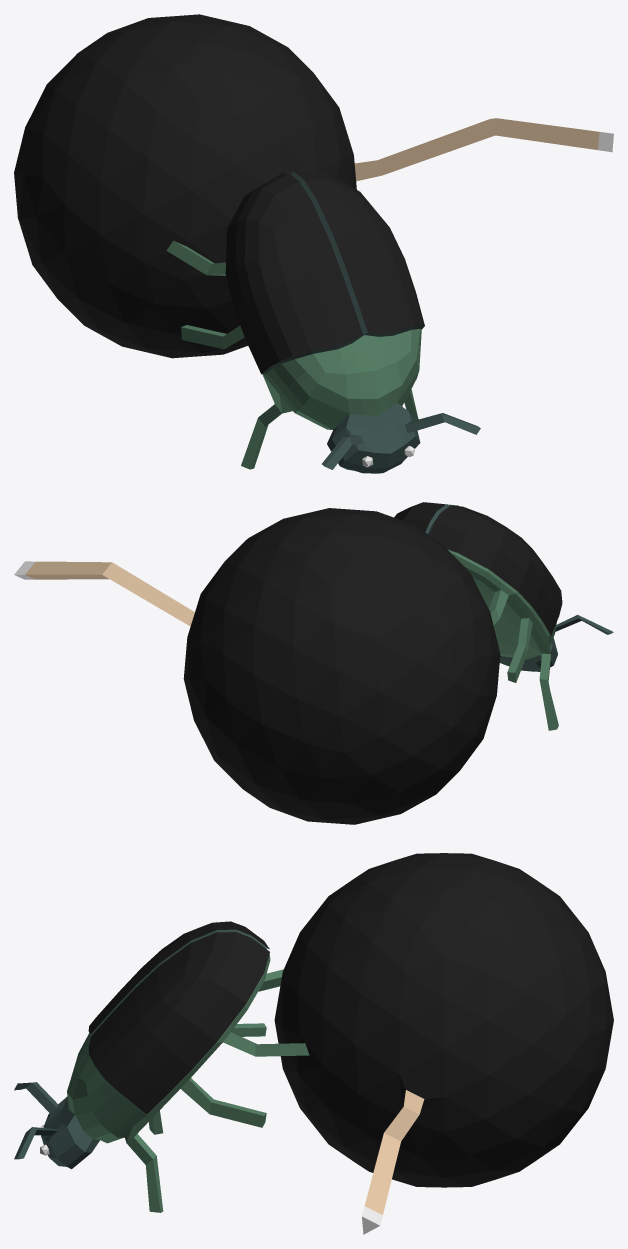
The model's file is Escarabajo bomba.fbx.
The picture shows the model from 3 angles, top to bottom: view 1: azimuth 30°, elevation 25°; view 2: azimuth 150°, elevation 25°; view 3: azimuth 270°, elevation 25°; orthographic projection. The views are drawn at different scales.
Visible parts, largest first — view 1: Bomba, Escarabajo; view 2: Bomba, Escarabajo; view 3: Bomba, Escarabajo.
Boxes of the visible parts, <box> form: Bomba: <box>14,14,613,358</box>; Escarabajo: <box>166,172,480,473</box>; Bomba: <box>14,508,500,824</box>; Escarabajo: <box>394,502,613,730</box>; Bomba: <box>274,853,613,1234</box>; Escarabajo: <box>14,921,309,1212</box>.
Size of the model in its own units: 627 by 345 by 616.
